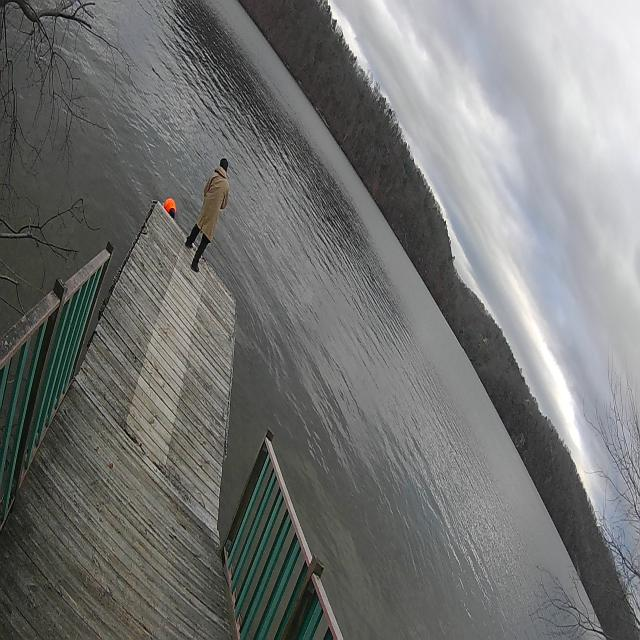Buoy: (162, 195, 177, 218)
